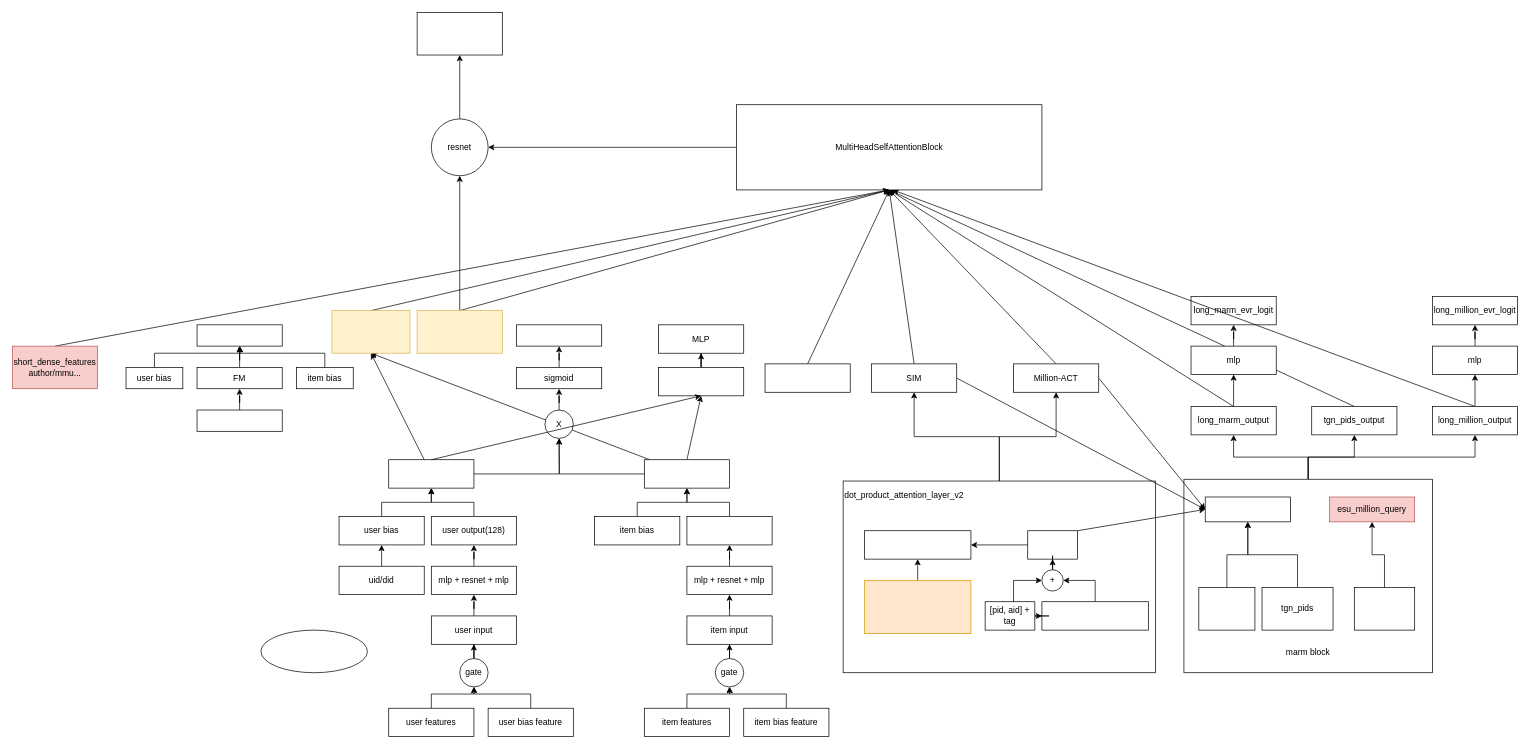
This 1530x749 diagram has some shape labels left out. Each missing label, with the centre of its shape:
CAN: (x=807, y=377)
concat: new query: (x=1247, y=509)
fm features: (x=239, y=420)
fm_logits_dict: (x=239, y=335)
item output: (x=687, y=473)
item output(128): (x=729, y=530)
key: pid, aid, tags, time_diff, play_time(more?做gate？): (x=917, y=607)
kgnn1,kgnn2, kgnn_marm1,kgnn_marm2: (x=1094, y=615)
label_share_features: (x=459, y=331)
labels: (x=459, y=33)
long_million_target: (x=1384, y=608)
query: (x=1052, y=544)
share_fc_user, share_fc_photo: (x=370, y=331)
Target Attention: qQ*K'*k*v* V: (x=917, y=544)
tower_logits_dict: (x=559, y=335)
u_long_marm: (x=1226, y=608)
user * item: (x=701, y=381)
user output: (x=431, y=473)
user_group_unique_id?: (x=313, y=651)
